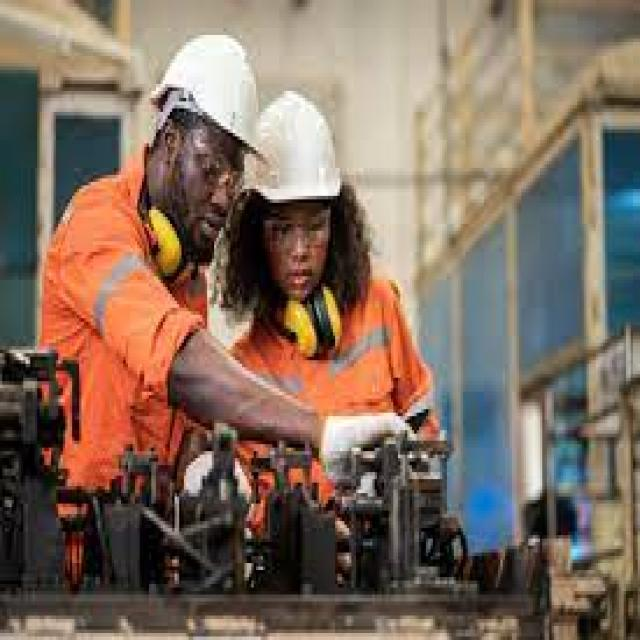Reflective-Jacket: (17, 168, 210, 531), (237, 269, 419, 549)
Safety-Helmet: (144, 24, 270, 168), (242, 84, 356, 224)
